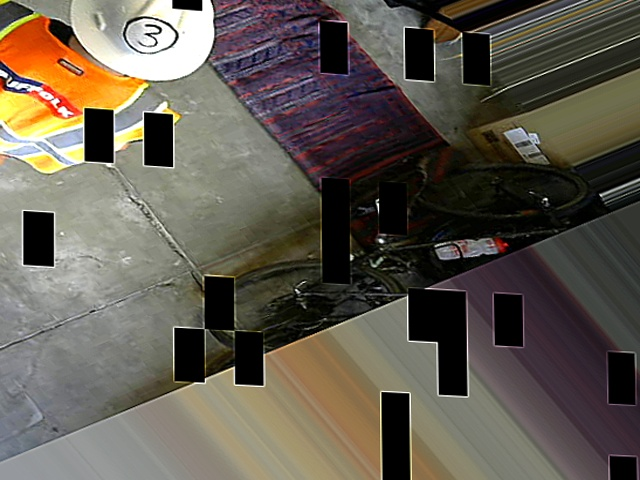three: (110, 7, 187, 59)
